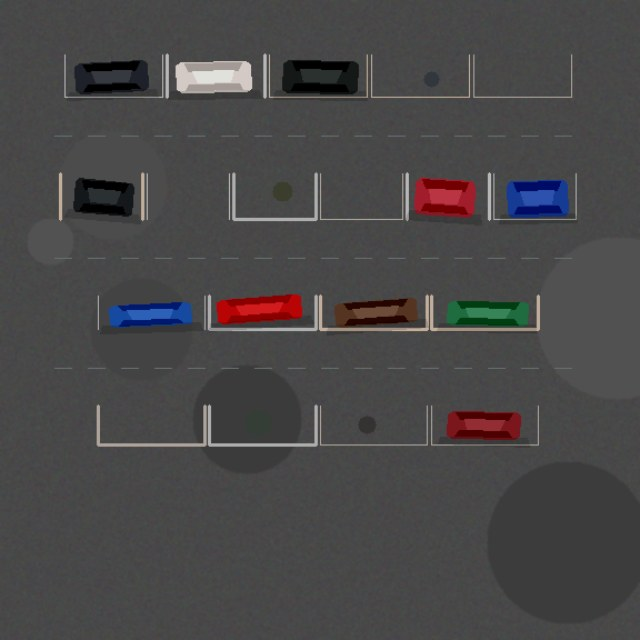space-empty: (371, 54, 469, 97), (473, 54, 571, 97), (209, 406, 316, 444), (320, 406, 427, 444), (98, 406, 204, 444), (233, 173, 316, 219), (147, 173, 229, 219), (320, 173, 402, 219)
space-occupied: (64, 54, 162, 97), (269, 54, 367, 97), (167, 54, 264, 97), (431, 406, 538, 444), (493, 173, 576, 219), (60, 173, 142, 219), (407, 173, 489, 219), (209, 296, 316, 329), (320, 296, 427, 329), (431, 296, 538, 329), (98, 296, 204, 329)
